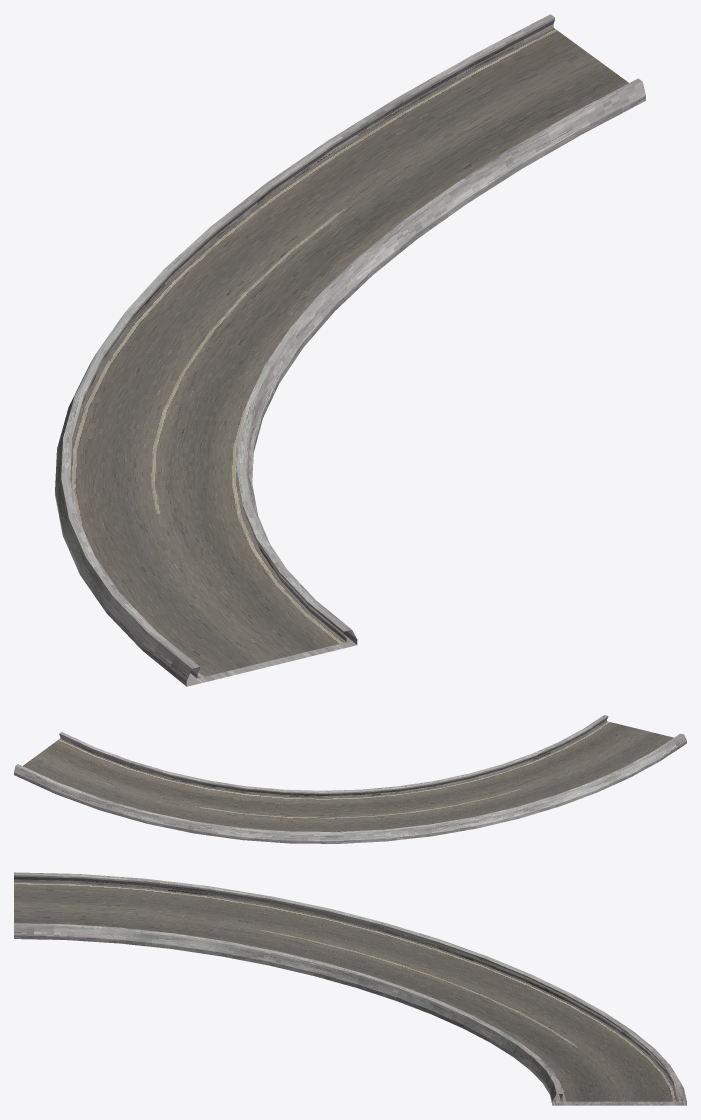
The model's file is road-Turn-Flat-BiSlopeUp-Up2-Right-Size5.glb.
3 views of the same model, one above another, from view 1: azimuth 30°, elevation 25°; view 2: azimuth 150°, elevation 25°; view 3: azimuth 270°, elevation 25° (orthographic). The views are drawn at different scales.
Parts seen in each view (by area): view 1: road-Turn-Flat-BiSlopeUp-Up2-Right-Size5; view 2: road-Turn-Flat-BiSlopeUp-Up2-Right-Size5; view 3: road-Turn-Flat-BiSlopeUp-Up2-Right-Size5.
Boxes of the visible parts, x1,y1,x2,y2 form: road-Turn-Flat-BiSlopeUp-Up2-Right-Size5: (55, 14, 645, 686); road-Turn-Flat-BiSlopeUp-Up2-Right-Size5: (14, 715, 686, 843); road-Turn-Flat-BiSlopeUp-Up2-Right-Size5: (14, 872, 686, 1105).
Bounding box in the file's own units: 5 × 0.6175 × 5.
Materials: 2 (2 with a texture image).
